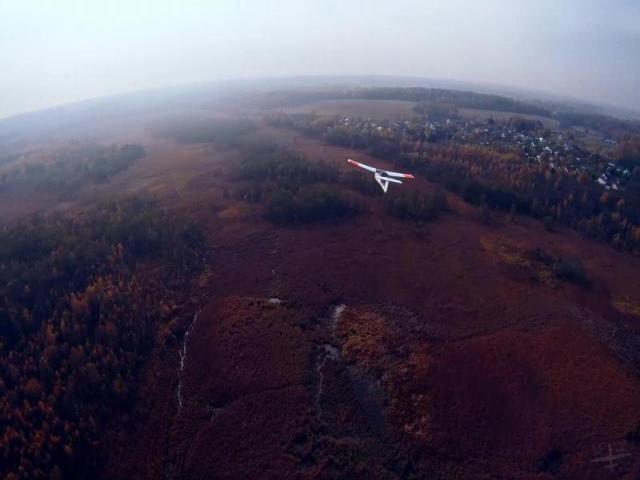hedef: (342, 150, 414, 203)
